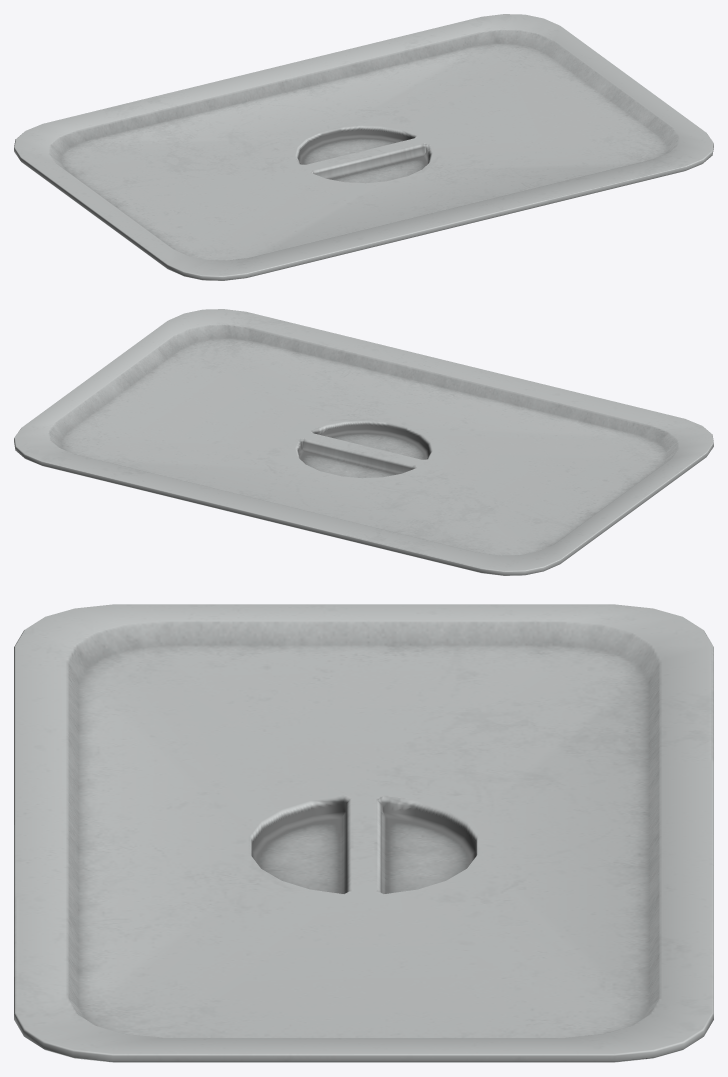
Rendered from Container_Lid.FBX.
3 views of the same model, one above another, from view 1: azimuth 30°, elevation 25°; view 2: azimuth 150°, elevation 25°; view 3: azimuth 270°, elevation 25° (orthographic). The views are drawn at different scales.
Parts seen in each view (by area): view 1: Container_Lid; view 2: Container_Lid; view 3: Container_Lid.
Boxes of the visible parts, <box> form: Container_Lid: <box>14,14,713,280</box>; Container_Lid: <box>14,309,713,575</box>; Container_Lid: <box>14,604,713,1062</box>.
Bounding box in the file's own units: 53.99 × 2.33 × 35.45.
Materials: 1 (1 with a texture image).
